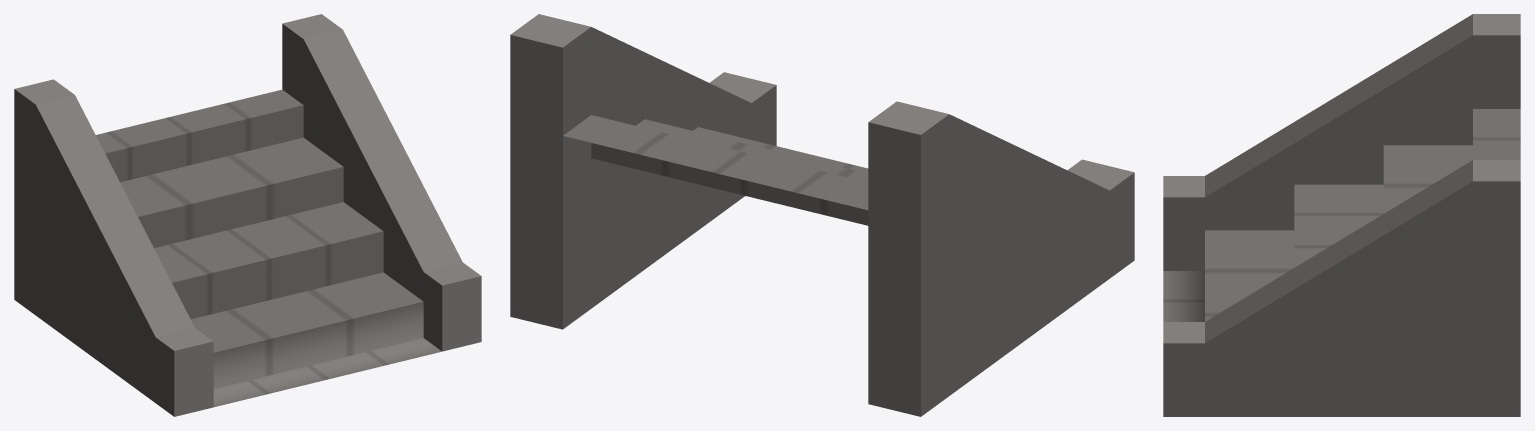
Rendered from SD_Env_Stairs_Stone_01.fbx.
3 renders of one model, left to right at view 1: azimuth 30°, elevation 25°; view 2: azimuth 150°, elevation 25°; view 3: azimuth 270°, elevation 25°, orthographic. The views are drawn at different scales.
Visible parts, largest first — view 1: SD_Env_Stairs_Stone_01; view 2: SD_Env_Stairs_Stone_01; view 3: SD_Env_Stairs_Stone_01.
Part boxes in pixels (box(x1,y1,x2,y2)): SD_Env_Stairs_Stone_01: box(14, 14, 481, 416); SD_Env_Stairs_Stone_01: box(510, 14, 1134, 416); SD_Env_Stairs_Stone_01: box(1163, 14, 1520, 416).
Bounding box in the file's own units: 5.54 × 3.64 × 5.
